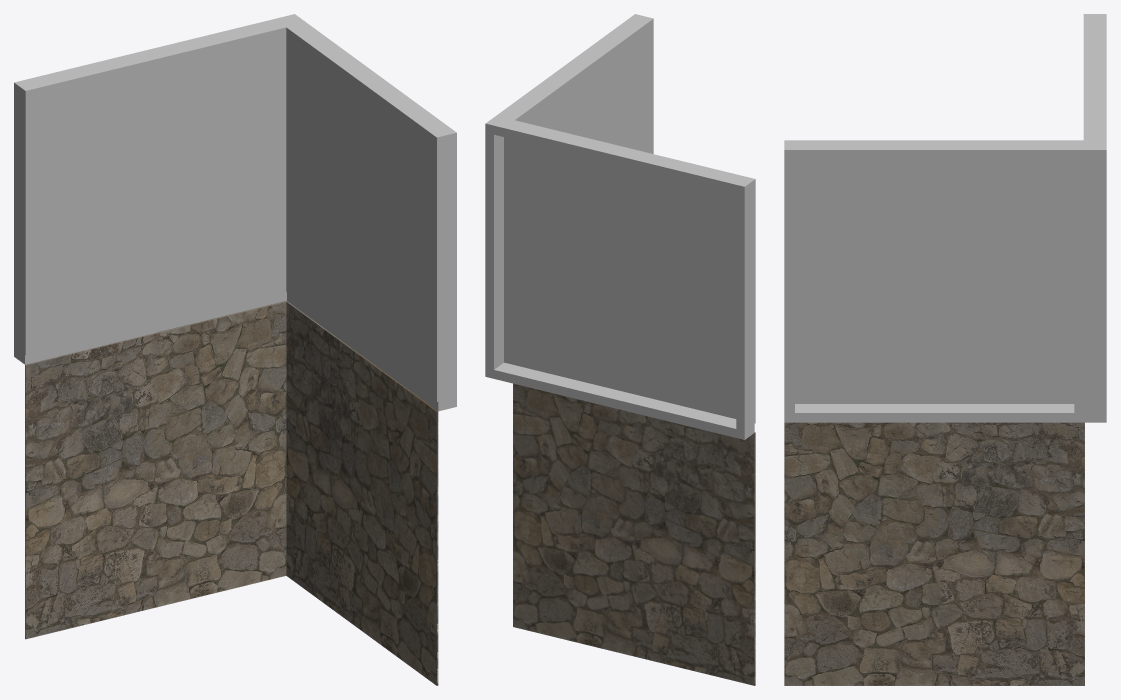
The model's file is HouseCorner_2x2_v2.fbx.
3 renders of one model, left to right at view 1: azimuth 30°, elevation 25°; view 2: azimuth 150°, elevation 25°; view 3: azimuth 270°, elevation 25°, orthographic. The views are drawn at different scales.
Visible parts, largest first — view 1: Plane.071; view 2: Plane.071; view 3: Plane.071.
Boxes of the visible parts, <box> form: Plane.071: <box>14,14,456,685</box>; Plane.071: <box>485,14,755,685</box>; Plane.071: <box>784,14,1106,685</box>.
Bounding box in the file's own units: 214 × 400 × 214.
